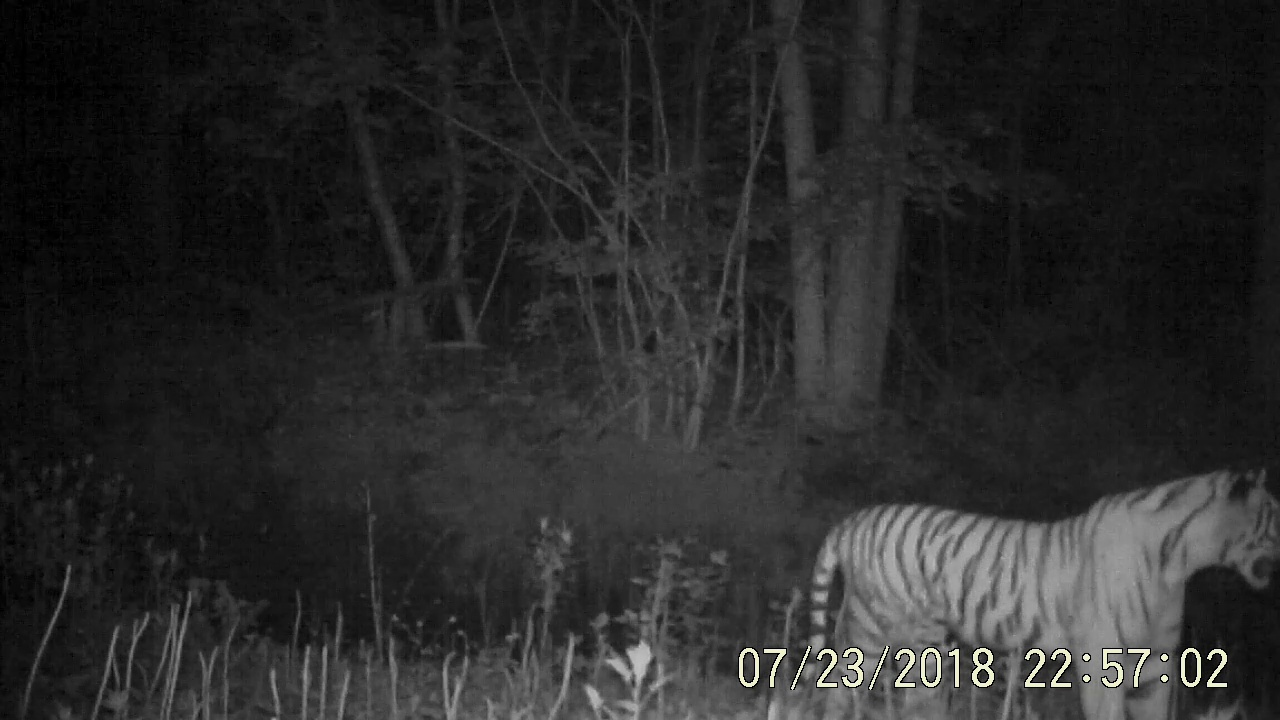Tiger: (775, 453, 1280, 720)
